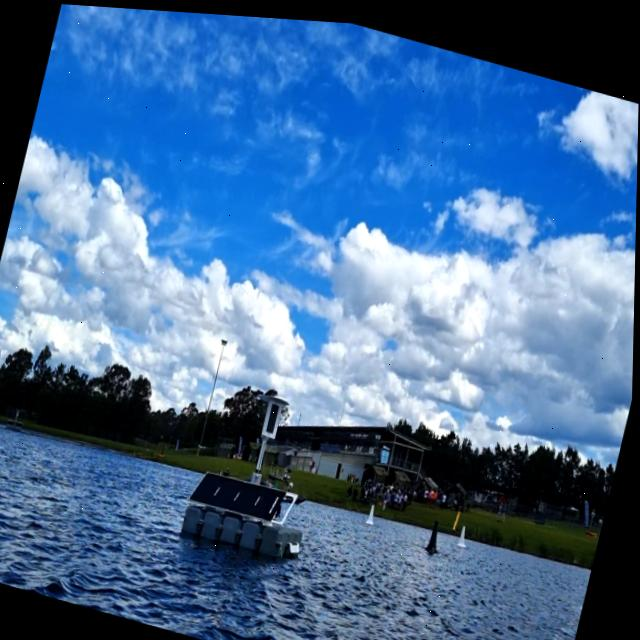led: (264, 395, 283, 433)
